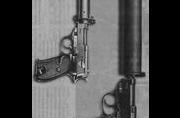gun: (67, 0, 144, 118), (31, 0, 93, 84)
